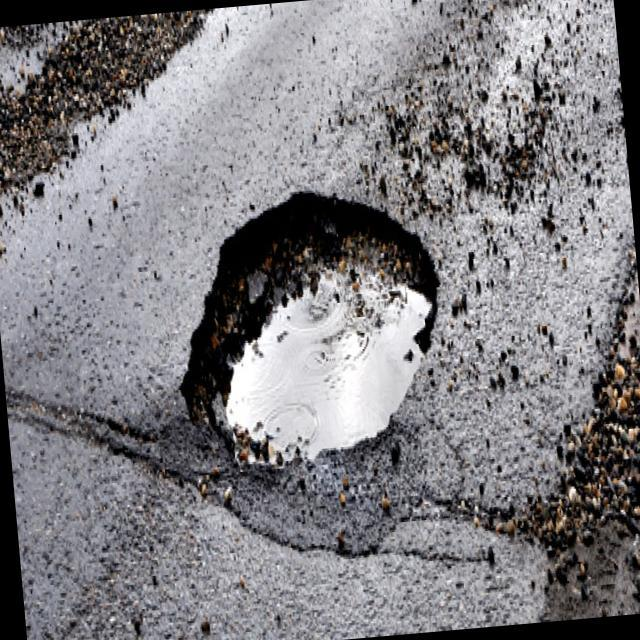Pothole: (162, 169, 454, 476)
